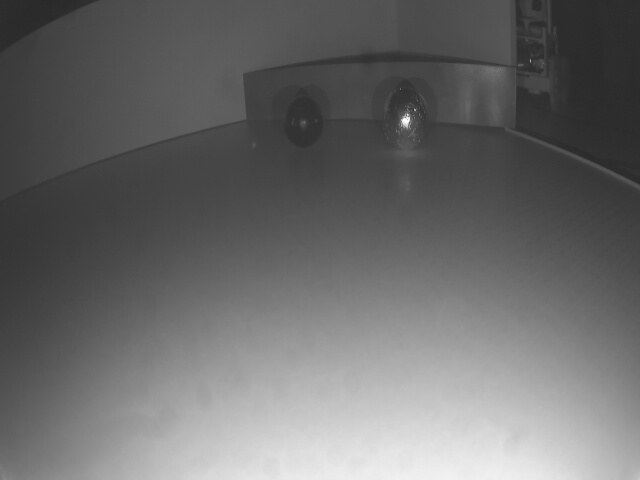Dead: (285, 99, 325, 145)
Green: (244, 71, 516, 123)
Live: (381, 89, 429, 154)
